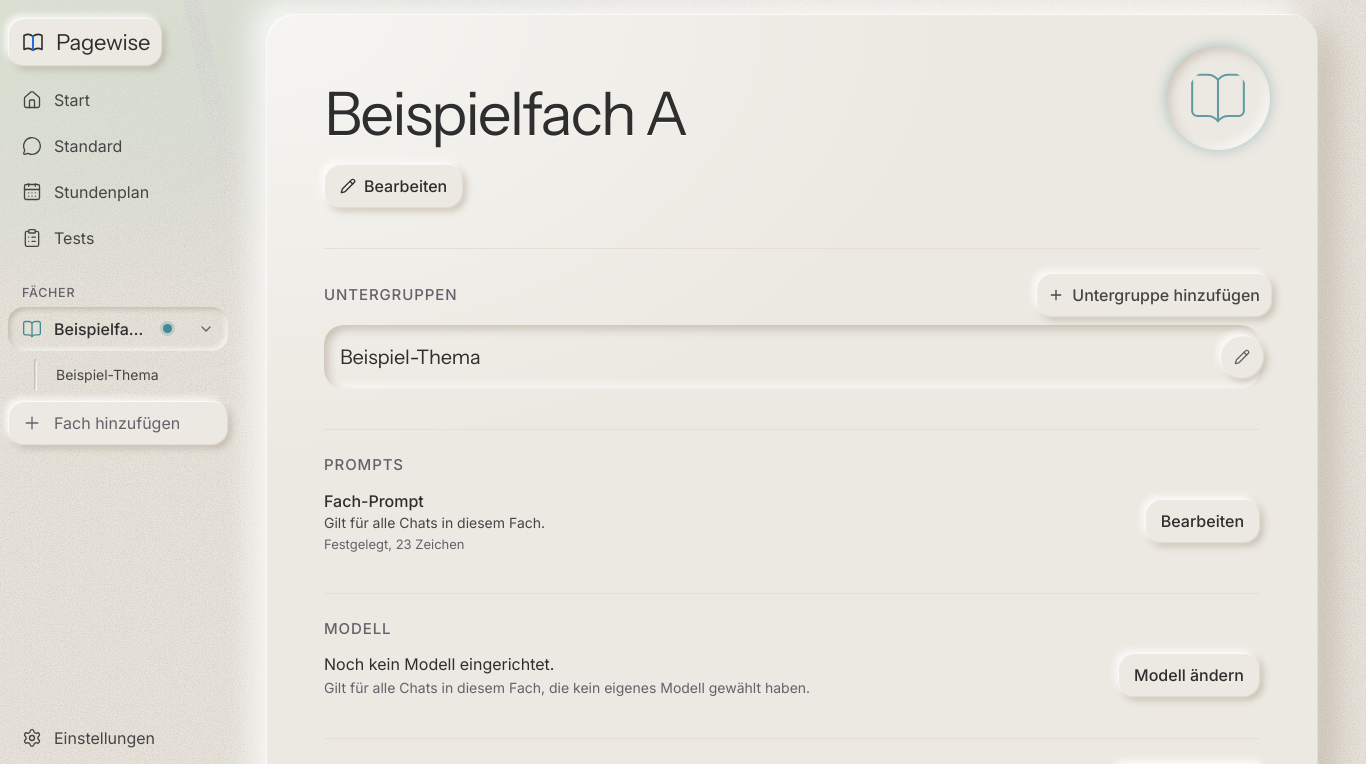
Scenario: Prompts je Ebene › zeigt in der Vorschau die Ebenen und fehlende Platzhalter
Click the button with aria-label "Fach-Prompt: Bearbeiten": (1202, 521) [1145, 499, 1260, 543]
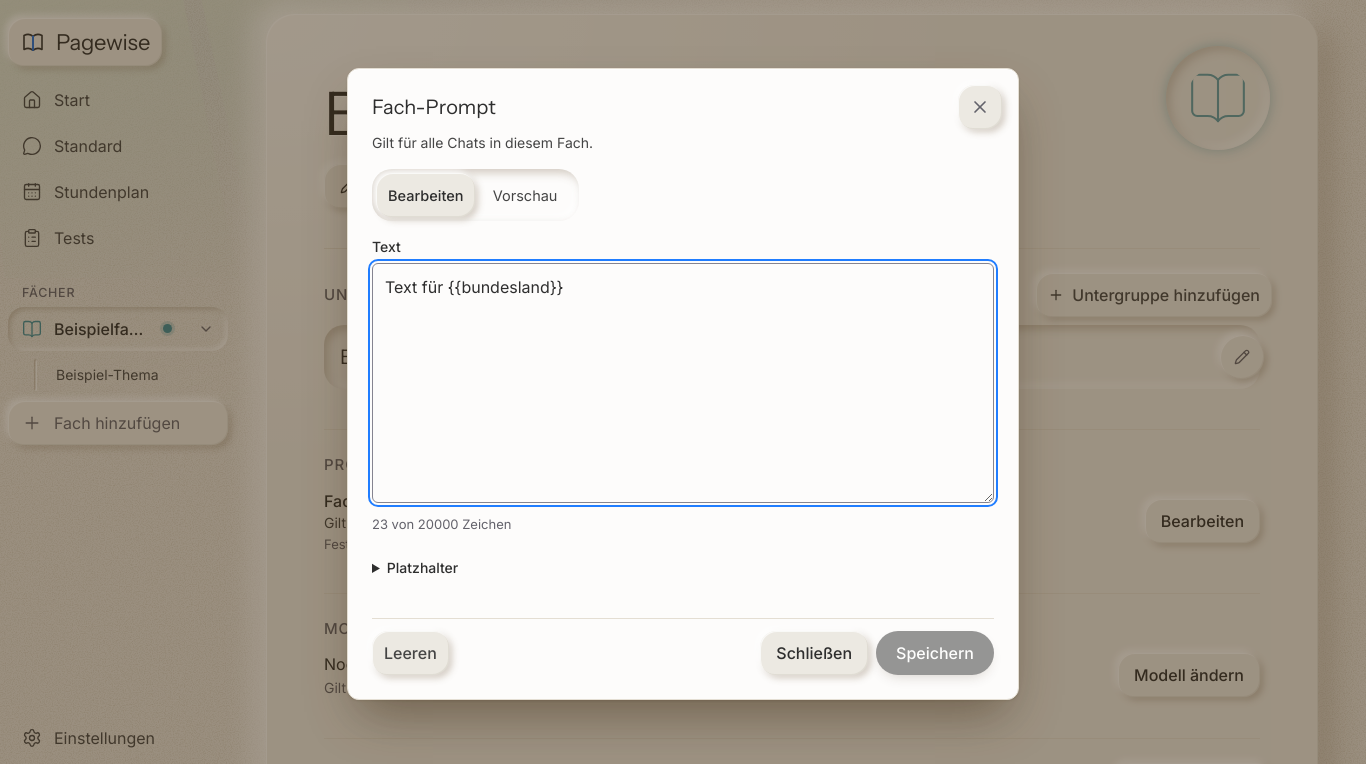
Click the radio button labelled "Vorschau": (525, 195) [493, 186, 558, 204]
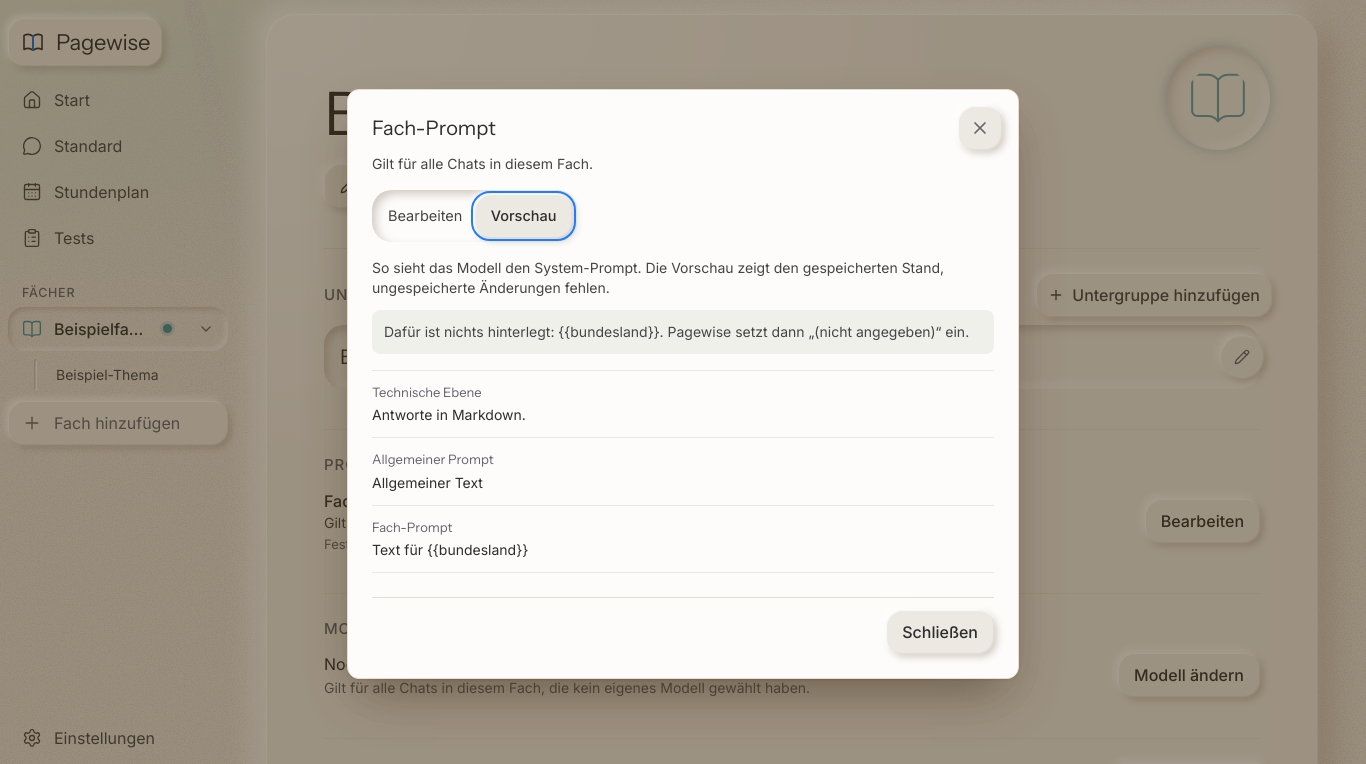
Check: the heading "Technische Ebene" is shown, box [372, 384, 482, 400]
Check: the heading "Allgemeiner Prompt" is shown, box [372, 451, 494, 467]
Check: the text "Allgemeiner Text" is shown, box [372, 474, 483, 491]
Click the radio button labelled "Bearbeiten": (425, 216) [388, 207, 462, 224]
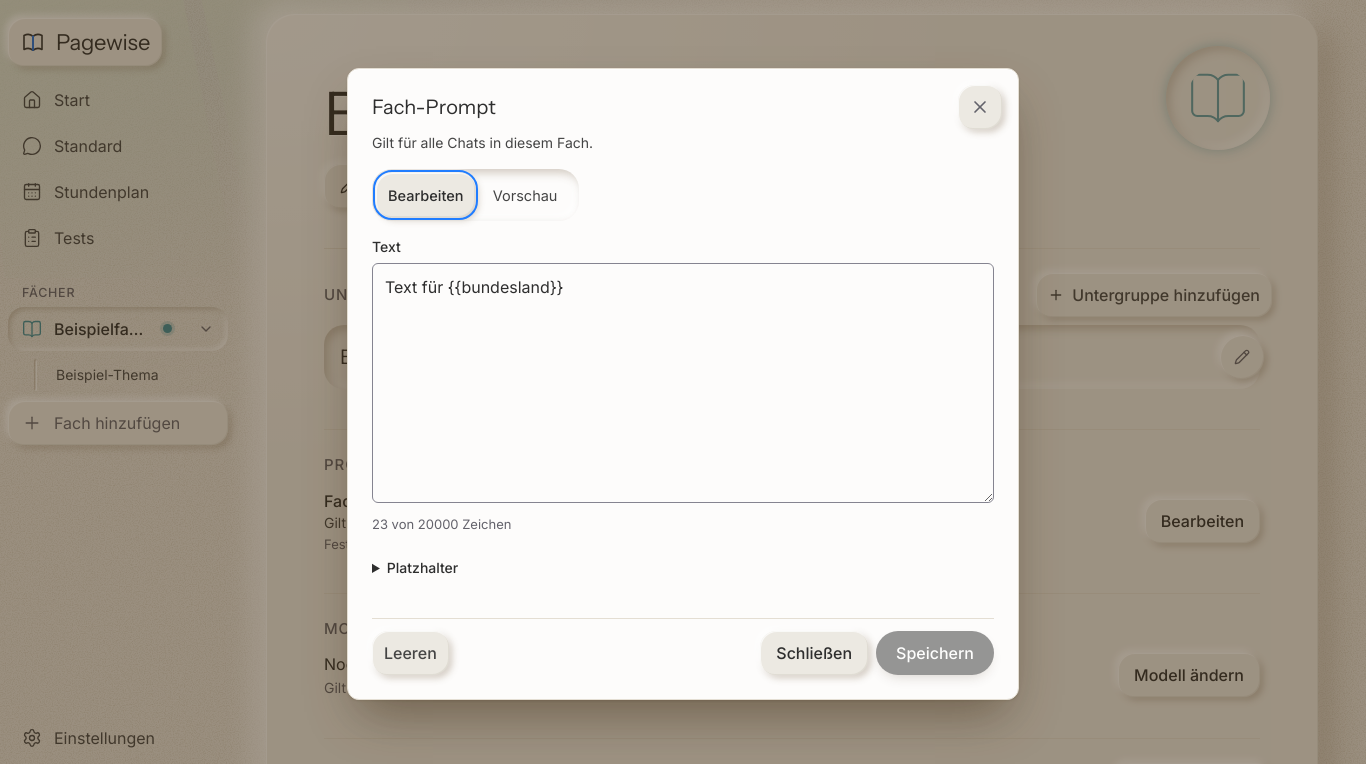
Check: the text box labelled "Text" is shown, box [372, 263, 994, 503]
